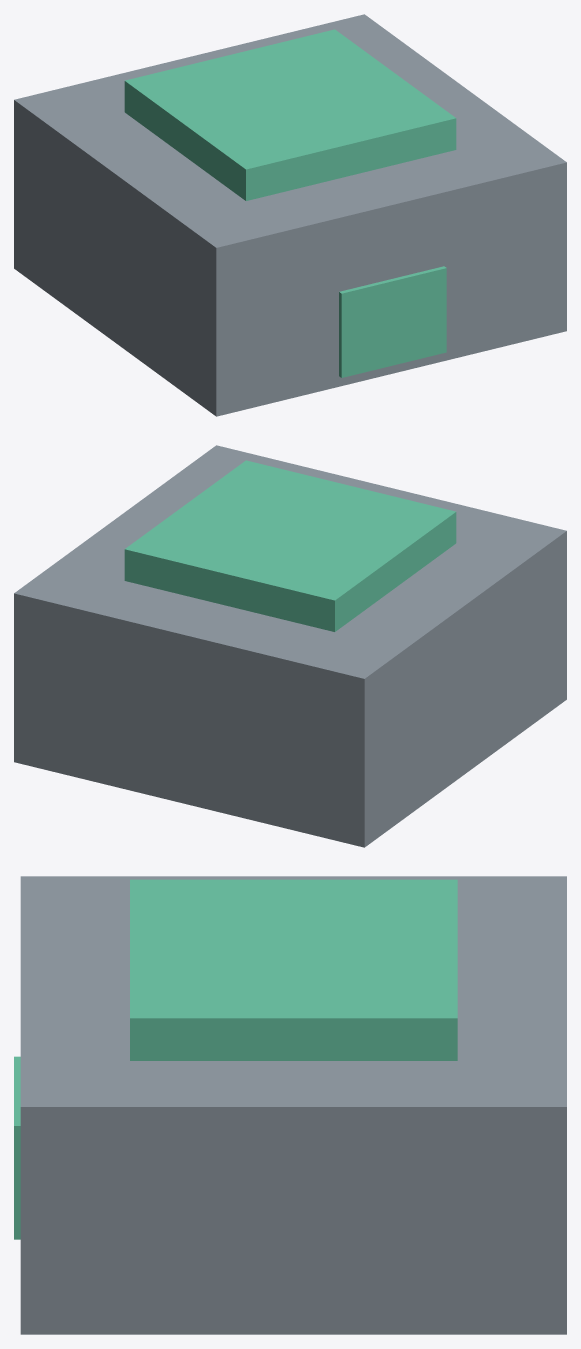
Rendered from SM_Coalition_CO_Airfield_Blockout.fbx.
The picture shows the model from 3 angles, top to bottom: view 1: azimuth 30°, elevation 25°; view 2: azimuth 150°, elevation 25°; view 3: azimuth 270°, elevation 25°; orthographic projection. The views are drawn at different scales.
Visible parts, largest first — view 1: MainBuilding, RoofStructure, EntranceGate; view 2: MainBuilding, RoofStructure; view 3: MainBuilding, RoofStructure, EntranceGate.
Boxes of the visible parts, <box> form: MainBuilding: <box>14,14,566,416</box>; RoofStructure: <box>124,29,456,200</box>; EntranceGate: <box>339,266,446,377</box>; MainBuilding: <box>14,445,566,847</box>; RoofStructure: <box>124,460,456,631</box>; MainBuilding: <box>20,876,566,1334</box>; RoofStructure: <box>130,879,457,1060</box>; EntranceGate: <box>14,1056,20,1239</box>.
Size of the model in its own units: 800 by 437 by 810.
